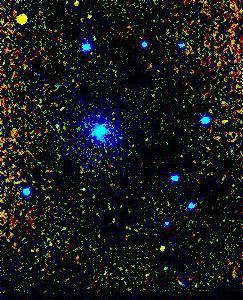star: (7, 7, 37, 37)
